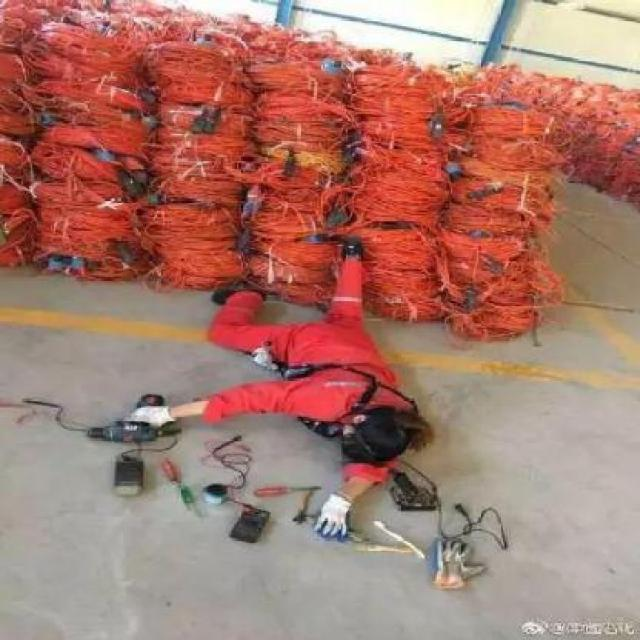fall: (109, 244, 442, 544)
